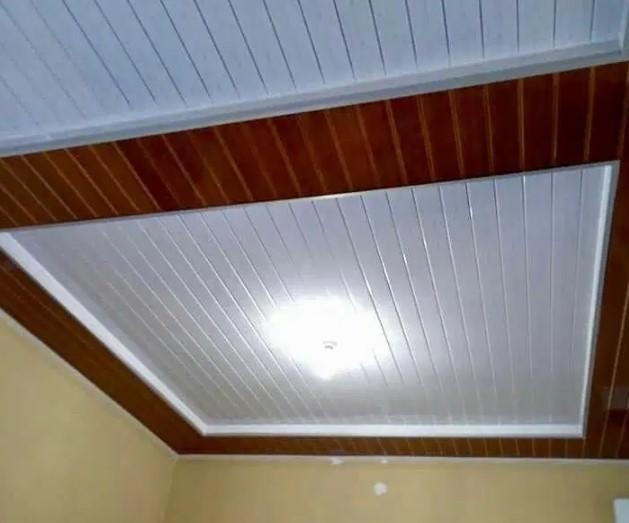PVC: (0, 0, 629, 469)
